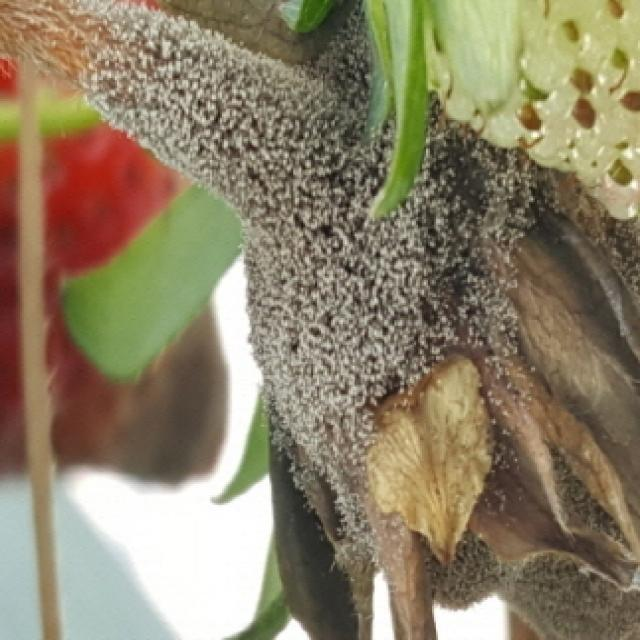Gray Mold: (58, 0, 640, 640)
